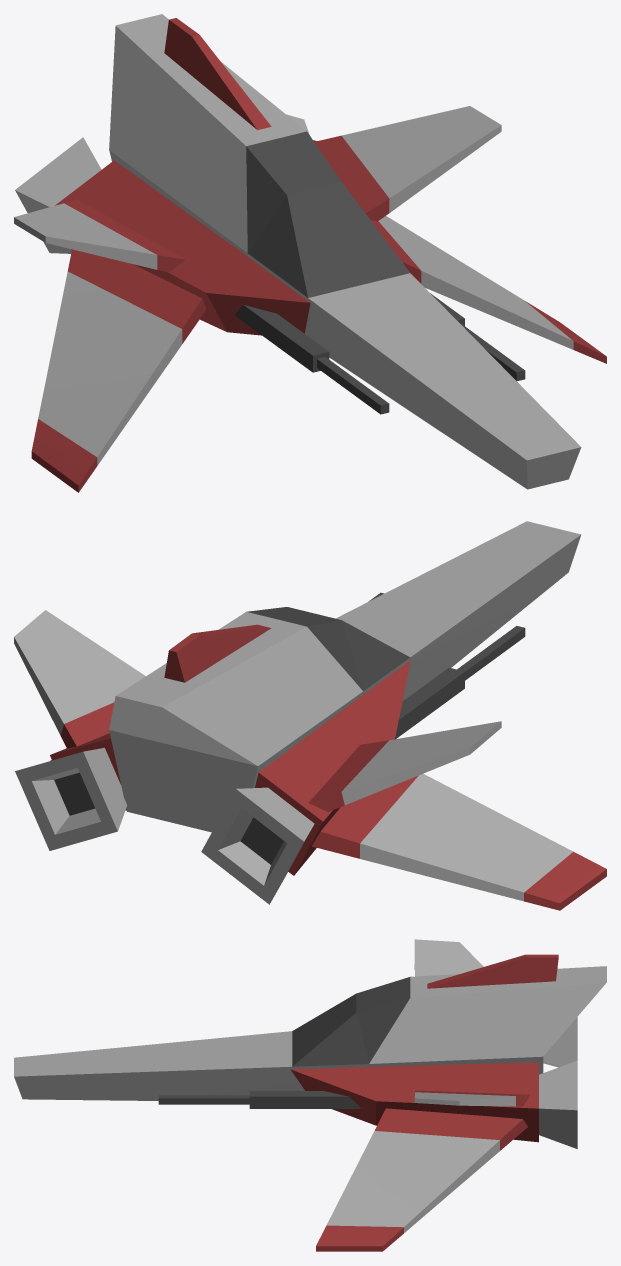
Rendered from Lo_poly_Spaceship_05_by_Liz_Reddington.gltf.
3 renders of one model, top to bottom at view 1: azimuth 30°, elevation 25°; view 2: azimuth 150°, elevation 25°; view 3: azimuth 270°, elevation 25°, orthographic. The views are drawn at different scales.
Visible parts, largest first — view 1: node-0; view 2: node-0; view 3: node-0.
Boxes of the visible parts, x1=… form: node-0: x1=14, y1=14, x2=606, y2=492; node-0: x1=14, y1=521, x2=606, y2=910; node-0: x1=14, y1=939, x2=606, y2=1251.
Size of the model in its own units: 466 by 240 by 634.
